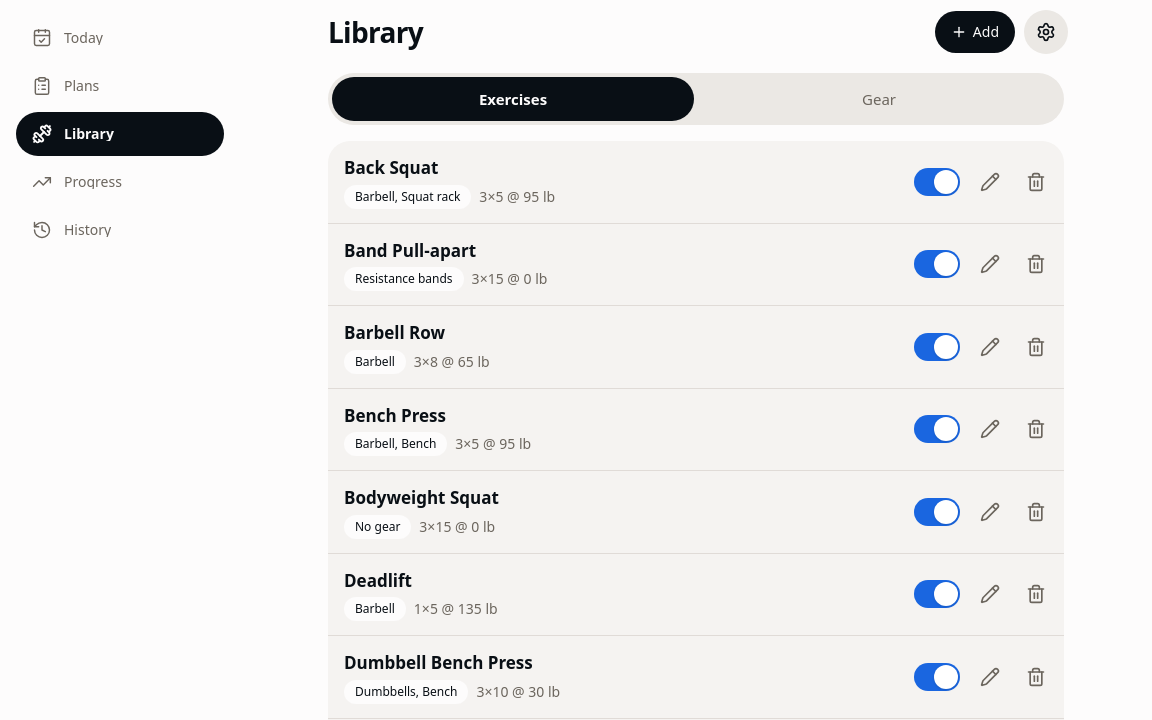
it: an invalid video link re-opens the collapsed details
This screenshot has width=1152, height=720.
Click the button with aria-label "add exercise" at {"x": 975, "y": 32}, box [934, 10, 1016, 54]
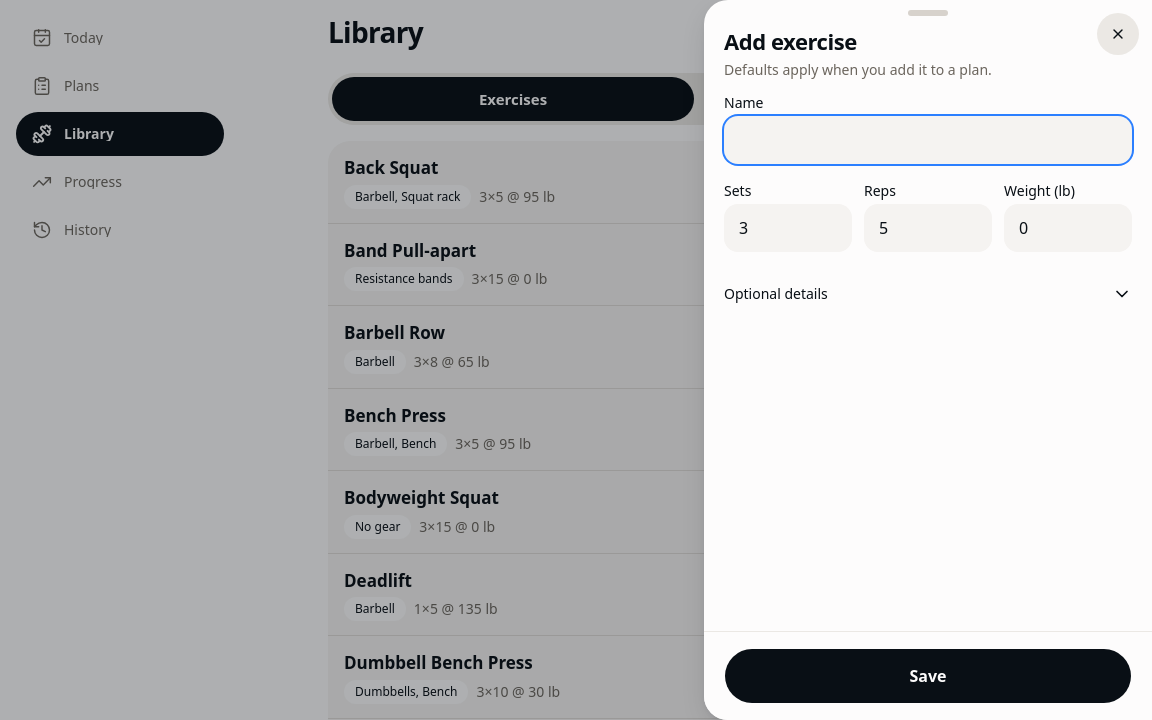
Type "X" into the field labelled "Name" at {"x": 928, "y": 140}, box [724, 116, 1132, 164]
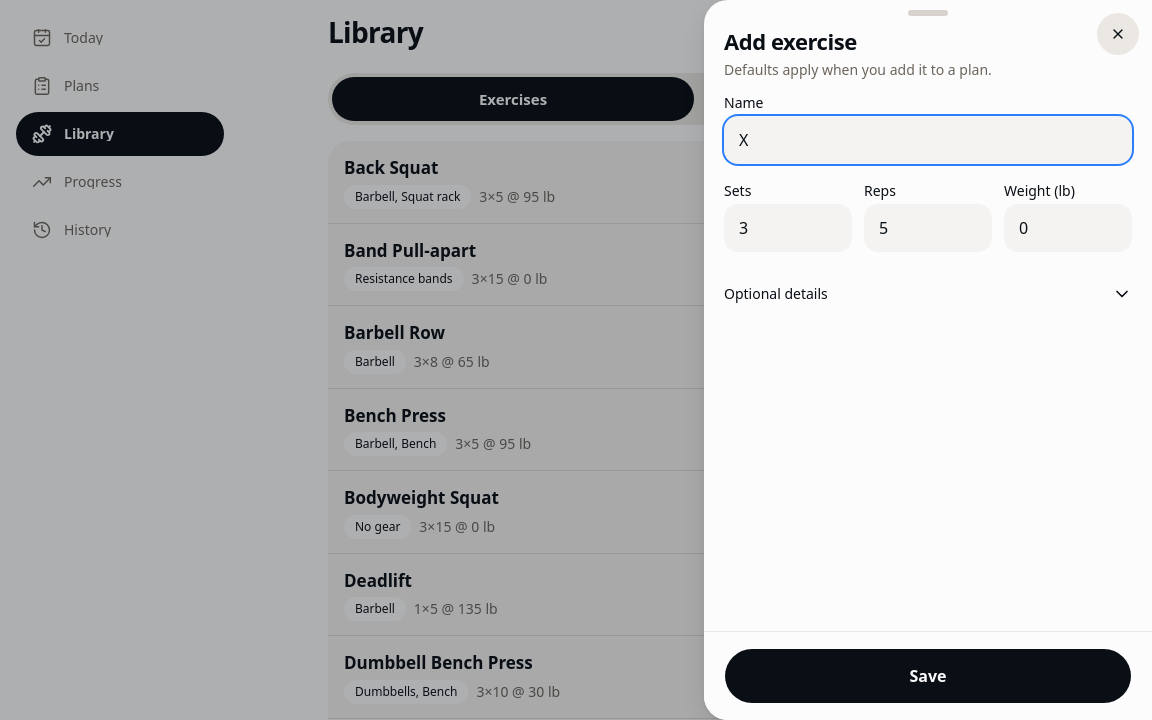
Click the button "Optional details" at {"x": 776, "y": 293}, box [712, 272, 1144, 316]
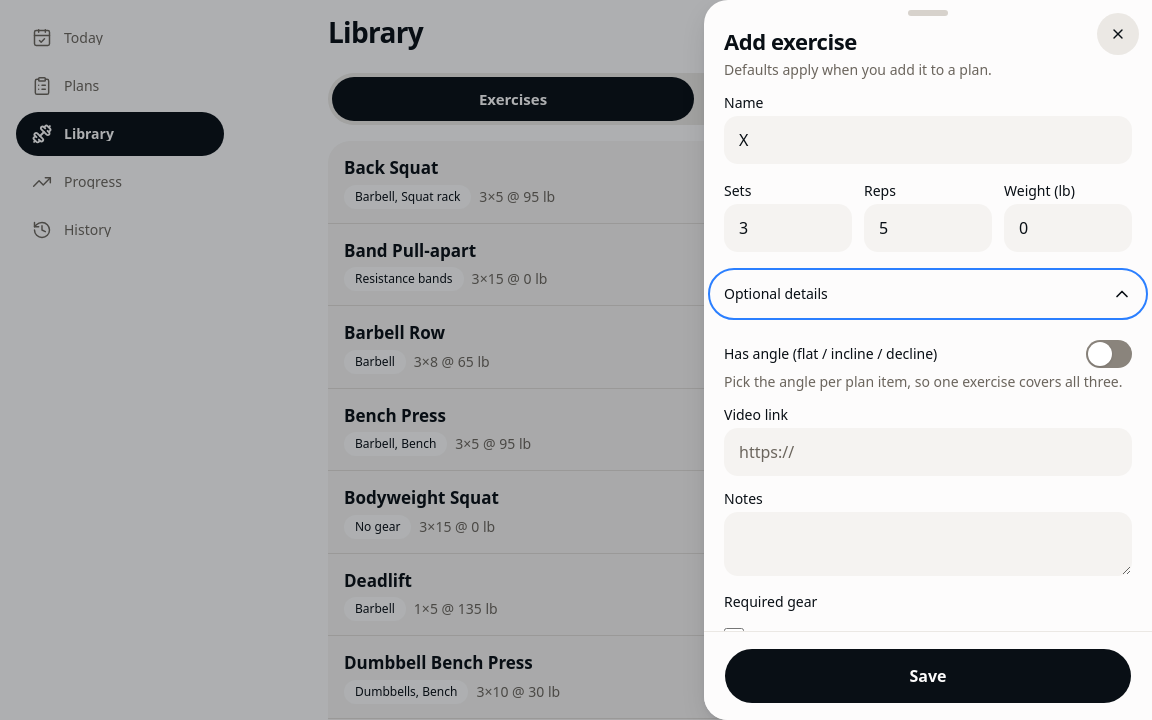
Type "ftp://nope" into the field labelled "Video link" at {"x": 928, "y": 452}, box [724, 428, 1132, 476]
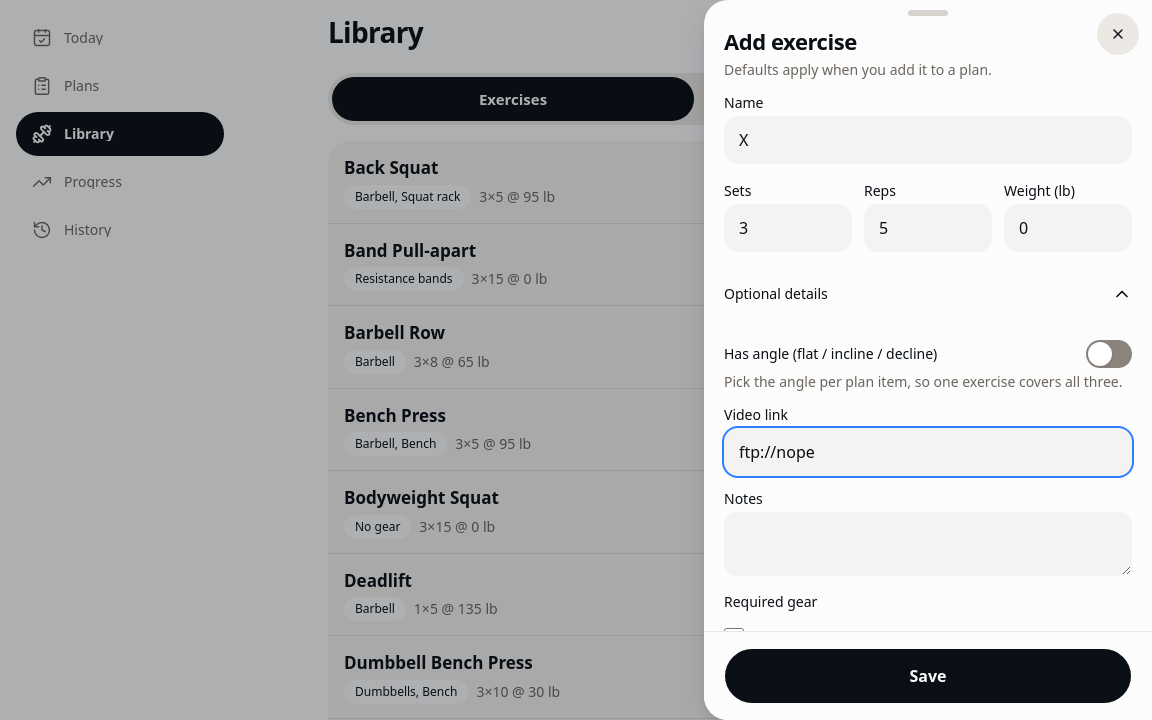
Click the button "Optional details" at {"x": 776, "y": 293}, box [712, 272, 1144, 316]
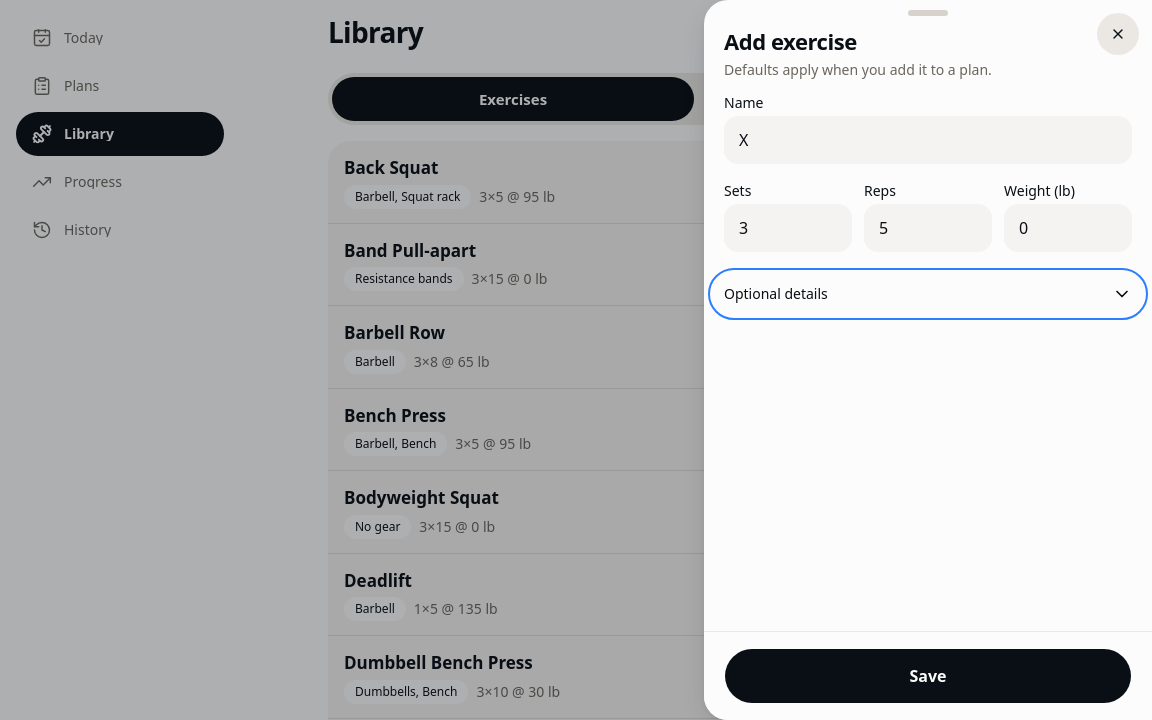
Now the label labelled "Video link" is gone
Click the button "Save" at {"x": 928, "y": 676}, box [724, 648, 1132, 704]
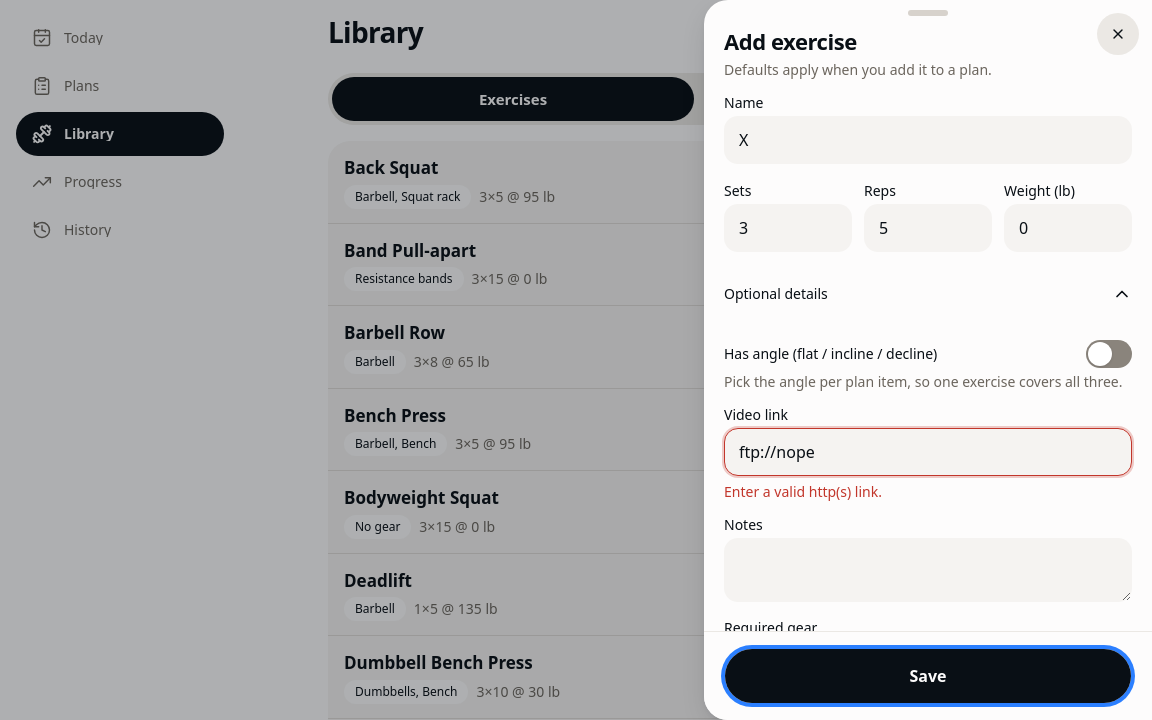
Now the text "Enter a valid http(s) link." is shown, box [724, 482, 882, 500]
Now the field labelled "Video link" is shown, box [724, 428, 1132, 476]
